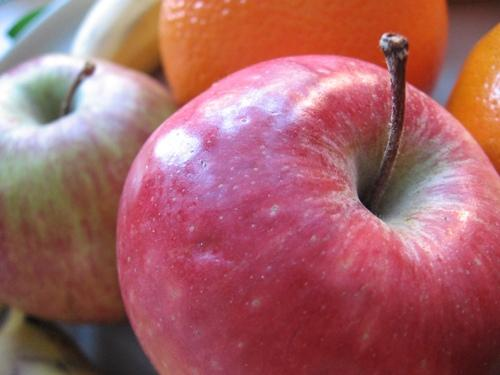apple: (116, 32, 500, 375), (0, 53, 179, 322)
banana: (0, 304, 103, 375), (72, 0, 163, 76)
orange: (158, 2, 450, 111), (446, 23, 500, 176)
